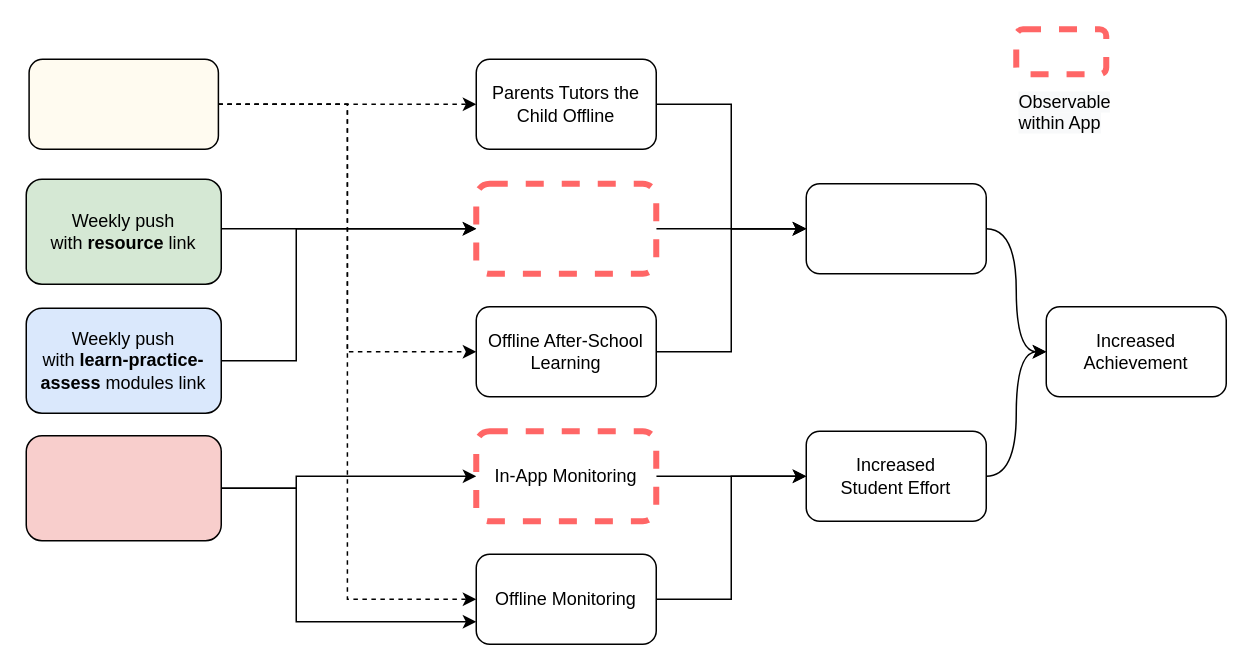
The diagram is 1253 pixels wide and 671 high, and some of its shapes have lost their labels. Each missing label, with the box of its shape:
Higher Learning Efficiency: (805, 182, 986, 274)
Open report: (28, 58, 218, 149)
Usage of In-App Learning Features: (472, 180, 658, 276)
Weekly push with monitoring link: (25, 434, 221, 541)
